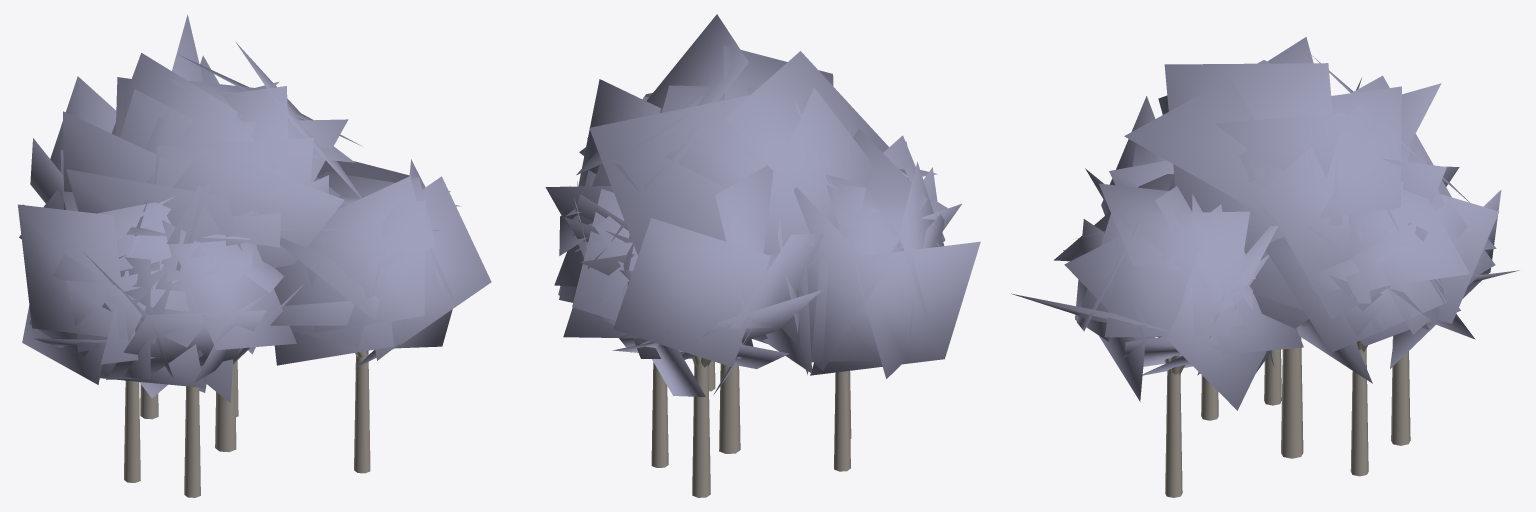
3 views of the same model, side by side, from view 1: azimuth 30°, elevation 25°; view 2: azimuth 150°, elevation 25°; view 3: azimuth 270°, elevation 25° (orthographic). The views are drawn at different scales.
Visible parts, largest first — view 1: leaves, bark; view 2: leaves, bark; view 3: leaves, bark.
Part boxes in pixels (x1=…): leaves: x1=18, y1=14, x2=491, y2=402; bark: x1=124, y1=350, x2=370, y2=497; leaves: x1=545, y1=14, x2=980, y2=396; bark: x1=651, y1=356, x2=851, y2=497; leaves: x1=1011, y1=37, x2=1519, y2=410; bark: x1=1164, y1=332, x2=1410, y2=497.
Size of the model in its own units: 26.1 by 23.17 by 26.65.
